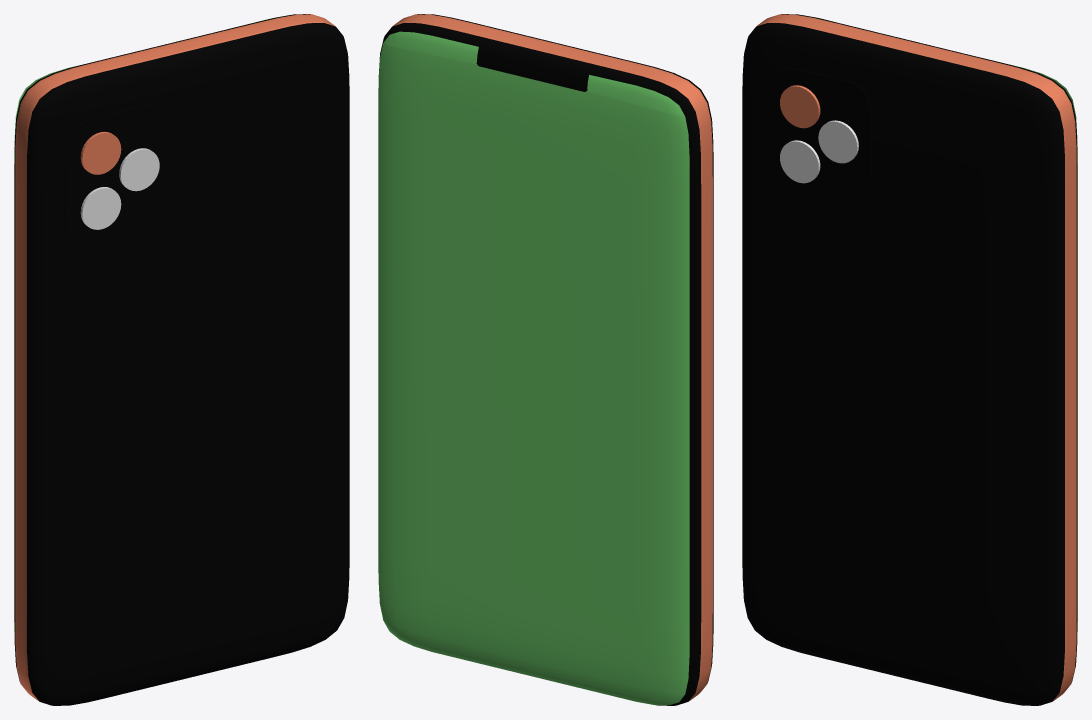
File: phone 1.fbx
3 views of the same model, side by side, from view 1: azimuth 30°, elevation 25°; view 2: azimuth 150°, elevation 25°; view 3: azimuth 330°, elevation 25° (orthographic).
Parts seen in each view (by area): view 1: kasa, kamhold, kam1, kam3, kam2; view 2: Ekran, kasa; view 3: kasa, kamhold, kam1, kam2, kam3.
Part boxes in pixels (box(x1,y1,x2,y2)): kasa: box(14, 14, 349, 705); kamhold: box(64, 103, 169, 245); kam1: box(80, 131, 121, 174); kam3: box(119, 148, 159, 191); kam2: box(80, 187, 121, 229); Ekran: box(378, 31, 689, 705); kasa: box(378, 14, 713, 705); kasa: box(742, 14, 1077, 705); kamhold: box(766, 67, 871, 207); kam1: box(780, 85, 820, 128); kam2: box(780, 140, 820, 183); kam3: box(818, 120, 858, 163).
Bounding box in the file's own units: 111 × 205 × 17.94.
